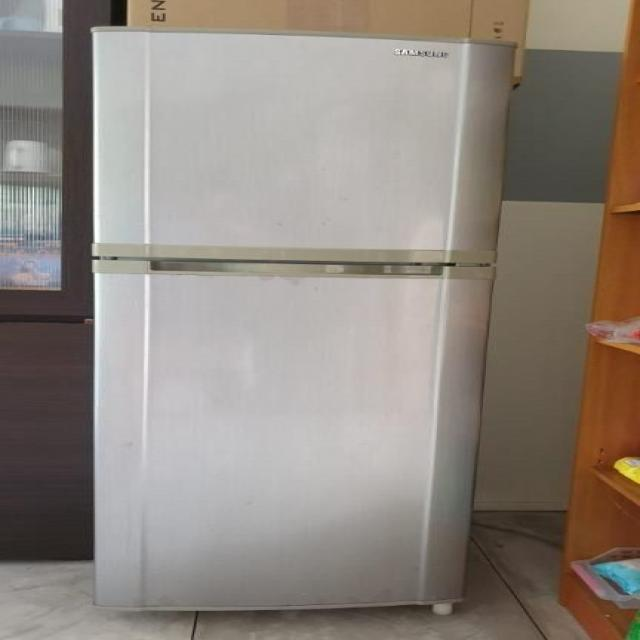refrigerator: (88, 22, 518, 608)
